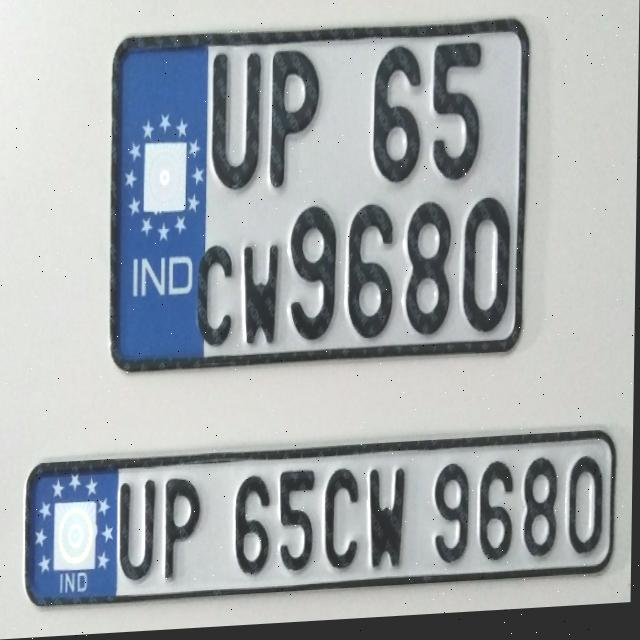plate: (103, 15, 534, 386), (21, 432, 620, 611)
